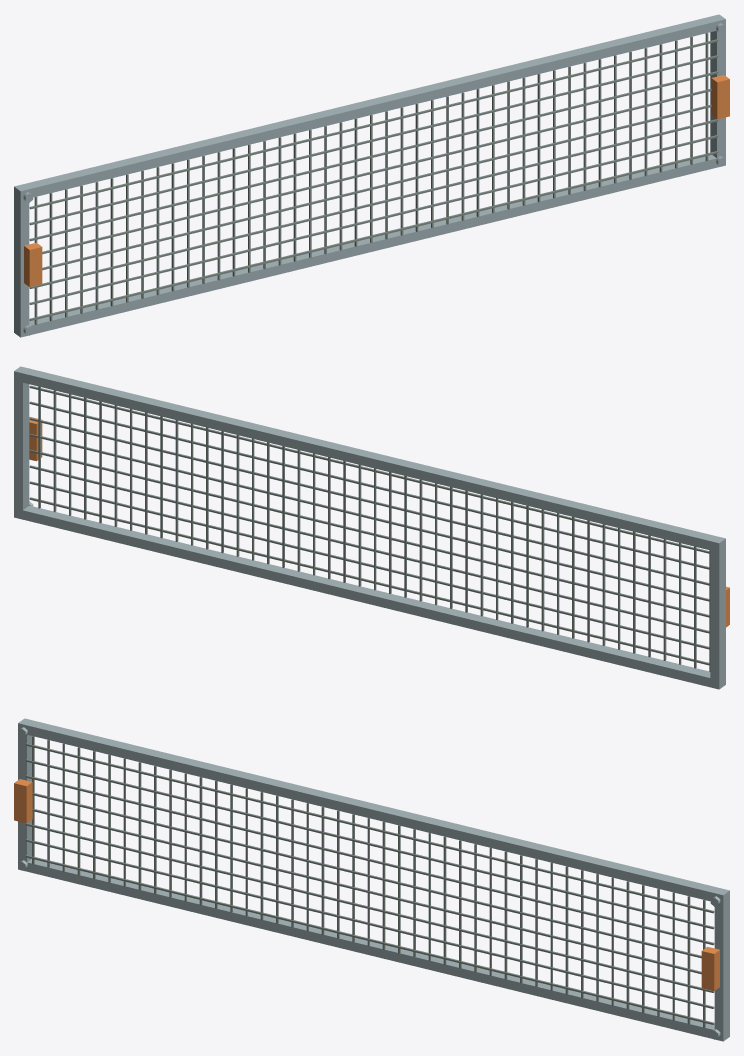
File: filter-mesh.glb
3 renders of one model, top to bottom at view 1: azimuth 30°, elevation 25°; view 2: azimuth 150°, elevation 25°; view 3: azimuth 330°, elevation 25°, orthographic.
Visible parts, largest first — view 1: Filter fibres, Brushed aluminium, Industrial orange; view 2: Filter fibres, Brushed aluminium, Industrial orange; view 3: Filter fibres, Brushed aluminium, Industrial orange.
Boxes of the visible parts, x1,y1,x2,y2 form: Filter fibres: (29,33,718,324); Brushed aluminium: (14,14,725,337); Industrial orange: (24,75,729,286); Filter fibres: (29,385,710,671); Brushed aluminium: (14,366,725,689); Industrial orange: (29,417,729,627); Filter fibres: (25,736,714,1027); Brushed aluminium: (18,718,729,1041); Industrial orange: (14,779,719,990).
Bounding box in the file's own units: 5.55 × 1.1 × 0.18.
